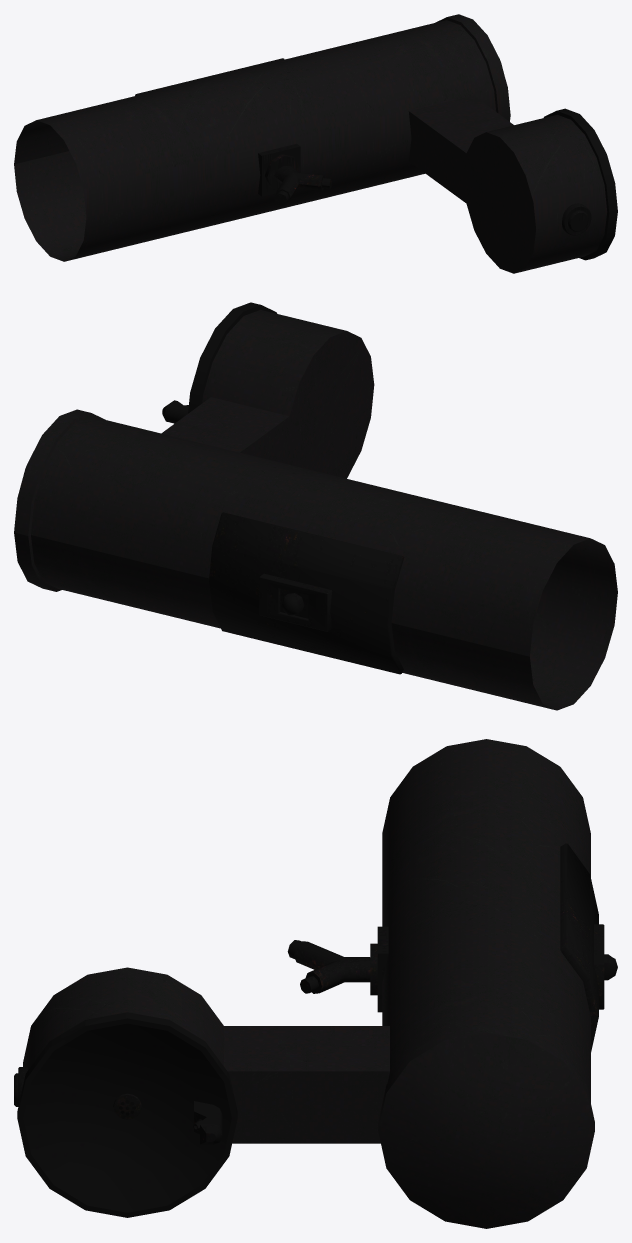
File: cP_DrinkingFountain02.dae
3 views of the same model, one above another, from view 1: azimuth 30°, elevation 25°; view 2: azimuth 150°, elevation 25°; view 3: azimuth 270°, elevation 25° (orthographic). The views are drawn at different scales.
Parts seen in each view (by area): view 1: cP_DrinkingFountain02.001; view 2: cP_DrinkingFountain02.001; view 3: cP_DrinkingFountain02.001.
Boxes of the visible parts, <box> form: cP_DrinkingFountain02.001: <box>14,14,617,273</box>; cP_DrinkingFountain02.001: <box>14,302,617,710</box>; cP_DrinkingFountain02.001: <box>14,739,617,1228</box>.
Size of the model in its own units: 1.39 by 1.14 by 0.4175.
